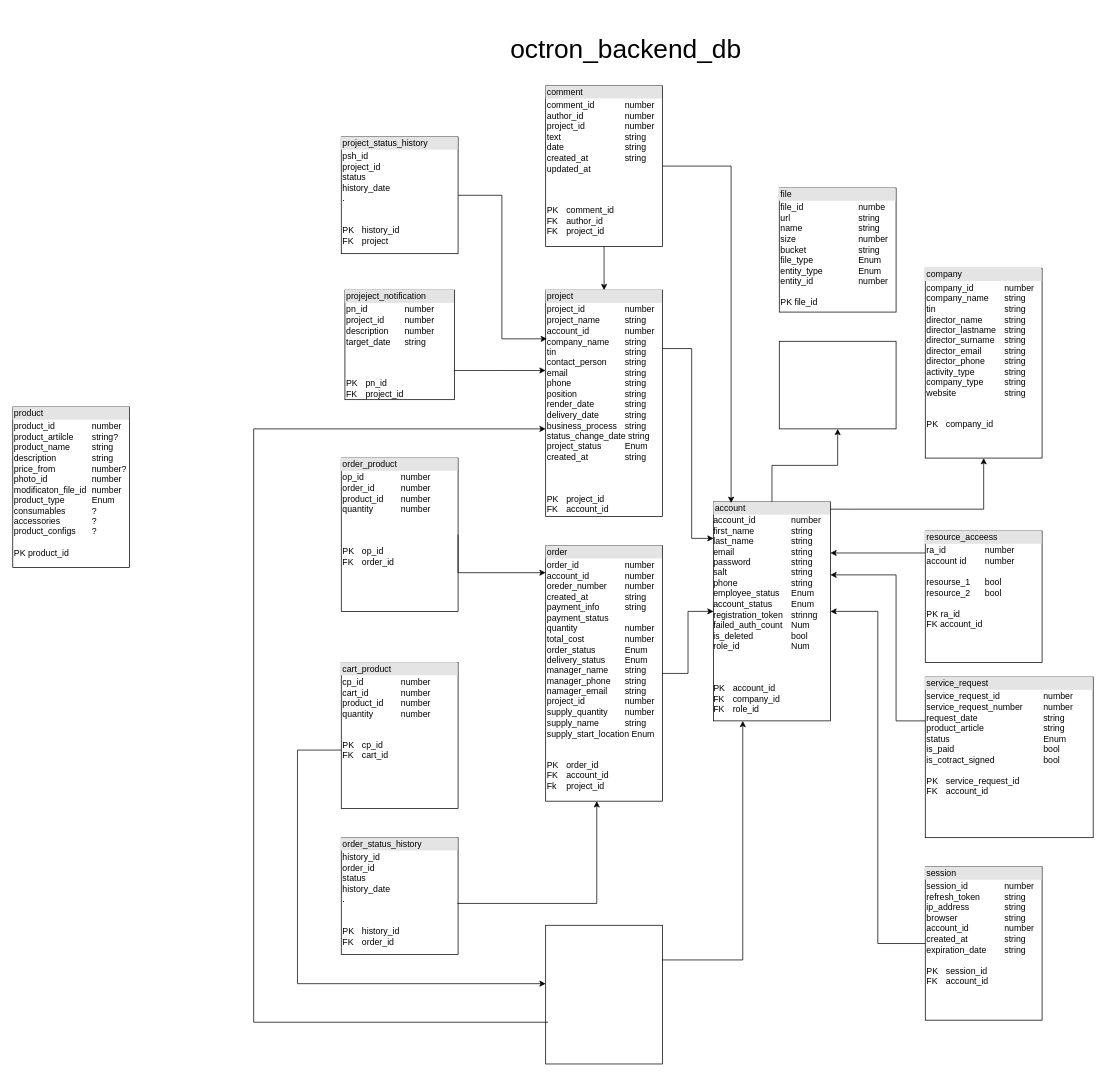
This 1106x1077 diagram has some shape labels left out. Here are the shapes that lost their labels. From the top down, the centre of each, then its label:
the point at 837,385: role role_id role_name PK role_id
the point at 603,994: cart cart_id account_id project_id . PK cart_id FK account_id Fk project_id
